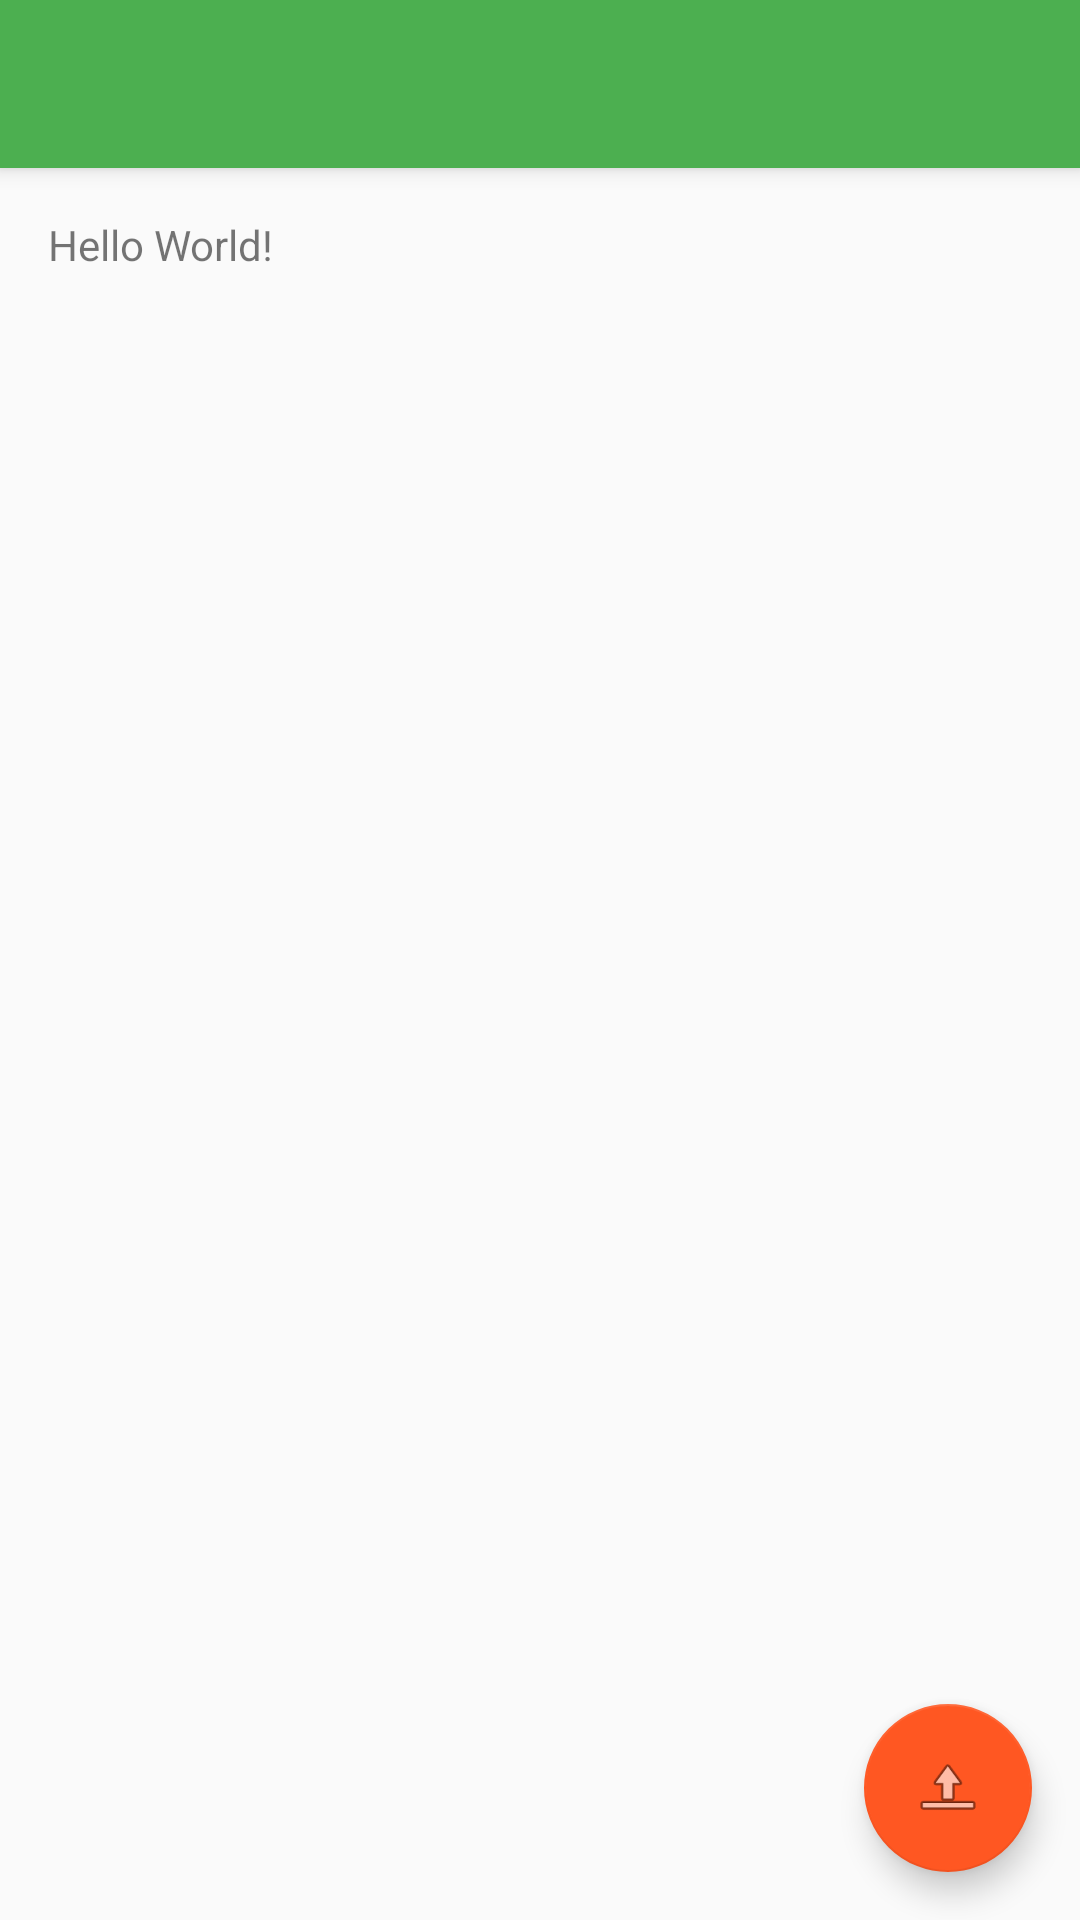

Icon bounding boxes for this 1080w x 1920h phone screenshot, format detection(x1, y1, x2, y2):
upload you tube: detection(864, 1704, 1032, 1872)
